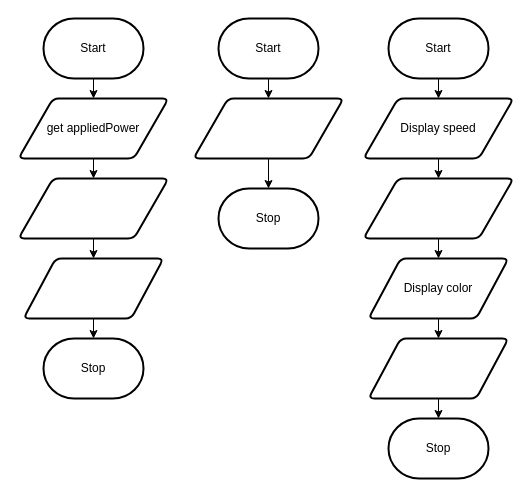
This 531x496 diagram has some shape labels left out. The centre of each missing label's shape, as x and y in pixels:
Display "Ding ding.": (268,128)
Display cadence: (438,368)
Display max speed: (438,208)
super.setSpeed (this.cadence * 2): (93,288)
this.cadence = this.cadence + appliedPower: (93,208)
